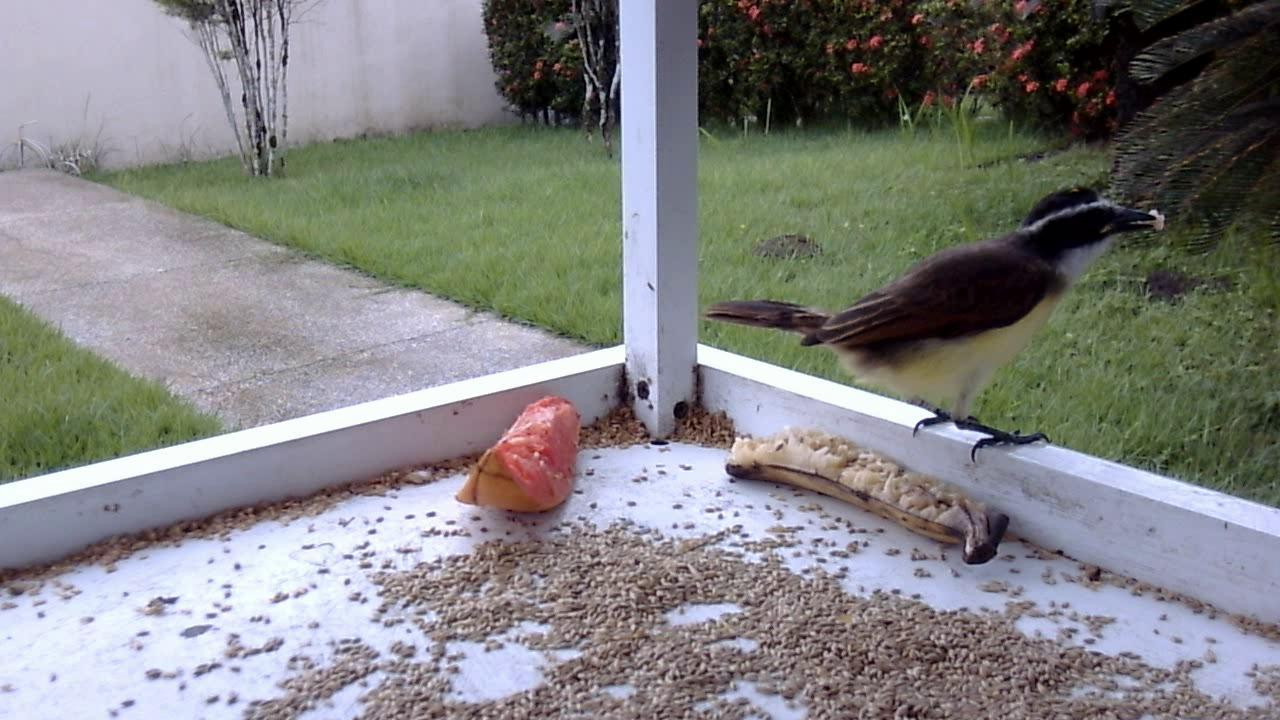bem_te_vi: (692, 162, 1172, 485)
